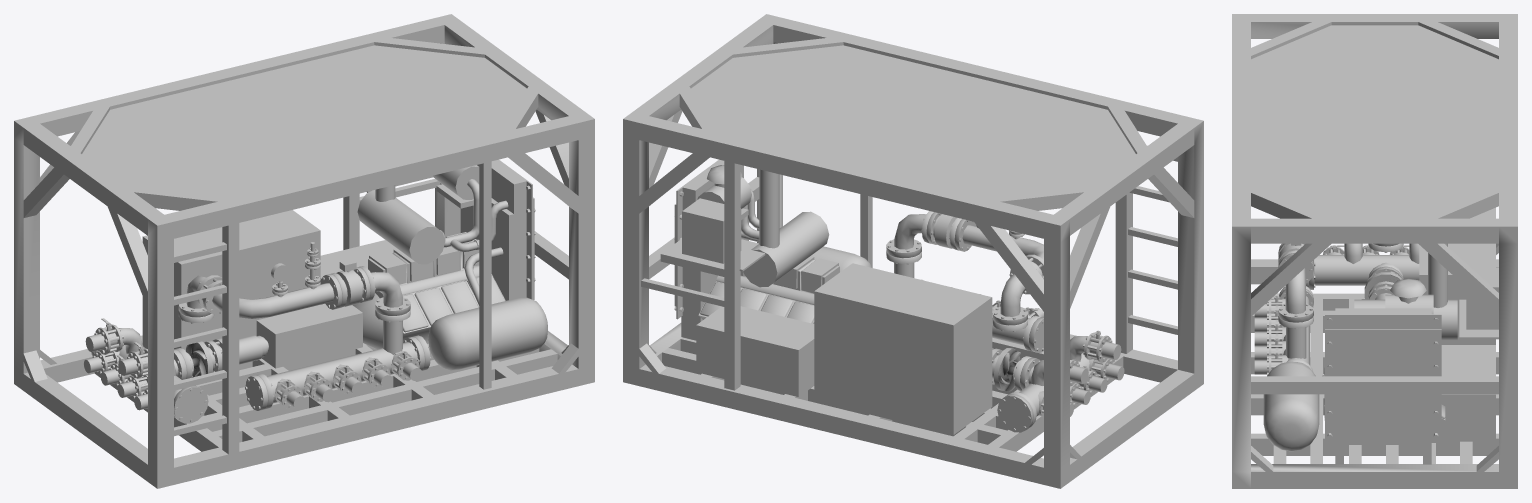
File: index.gltf
3 views of the same model, side by side, from view 1: azimuth 30°, elevation 25°; view 2: azimuth 150°, elevation 25°; view 3: azimuth 270°, elevation 25° (orthographic).
Parts seen in each view (by area): view 1: gongsuanbeng, YeLun; view 2: gongsuanbeng, YeLun; view 3: gongsuanbeng, YeLun.
Part boxes in pixels (bbox=[...]): gongsuanbeng: bbox=[14, 14, 594, 488]; YeLun: bbox=[186, 341, 212, 377]; gongsuanbeng: bbox=[623, 14, 1203, 488]; YeLun: bbox=[994, 348, 1020, 391]; gongsuanbeng: bbox=[1232, 14, 1517, 488]; YeLun: bbox=[1364, 271, 1402, 299].
Bounding box in the file's own units: 4 × 2.3 × 2.27.
